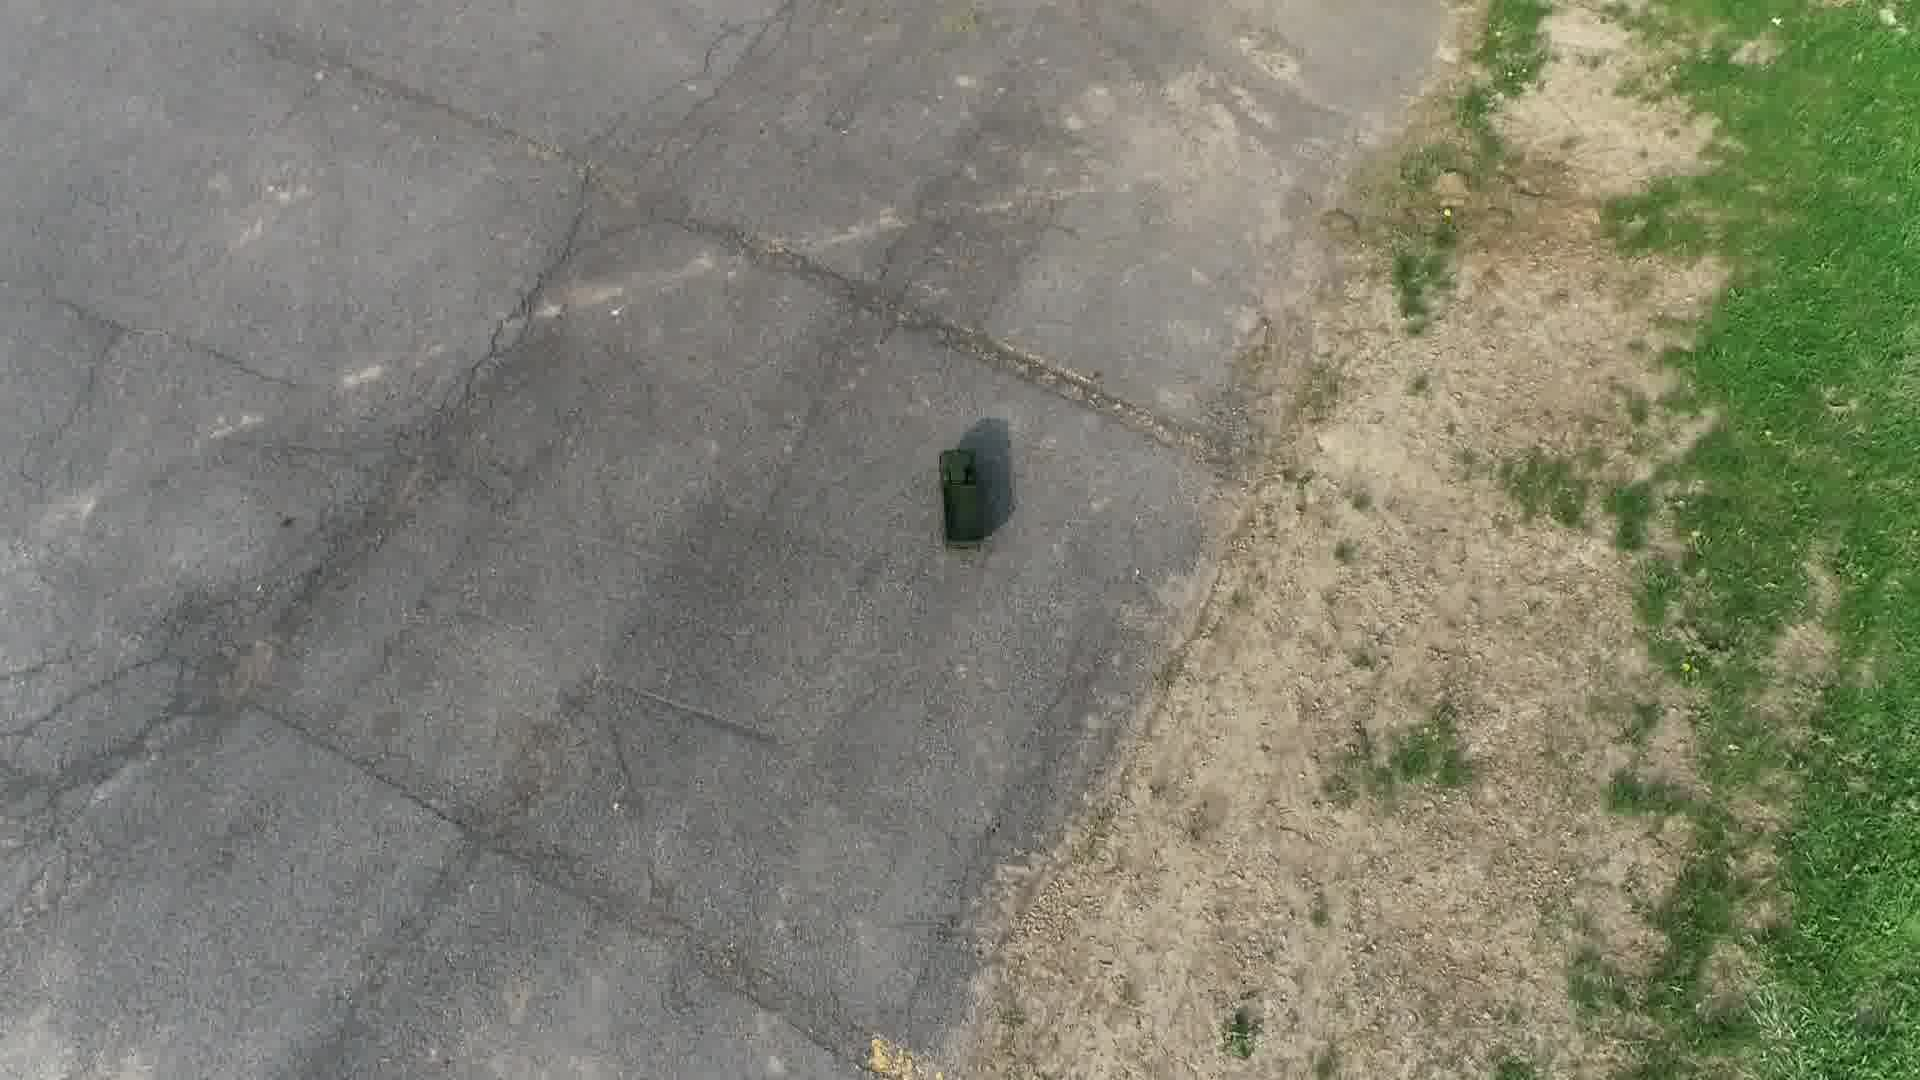transporter9: (931, 446, 1001, 556)
